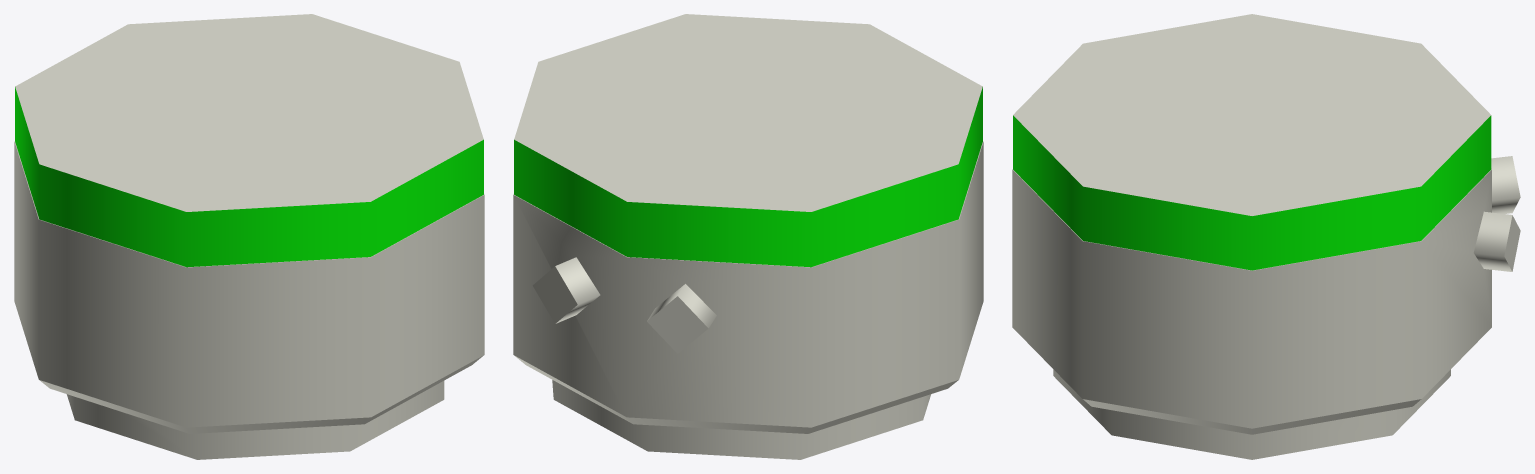
Rendered from joint6.obj.
3 renders of one model, left to right at view 1: azimuth 30°, elevation 25°; view 2: azimuth 150°, elevation 25°; view 3: azimuth 270°, elevation 25°, orthographic.
Size of the model in its own units: 76 by 45.6 by 80.54.
